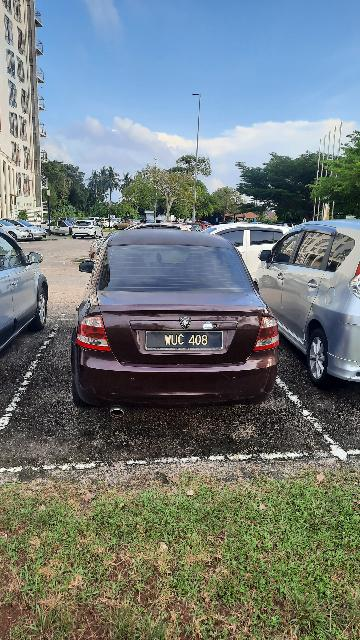License_Plate: (146, 327, 225, 353)
car: (65, 227, 283, 426), (257, 217, 360, 391), (2, 230, 57, 358)
